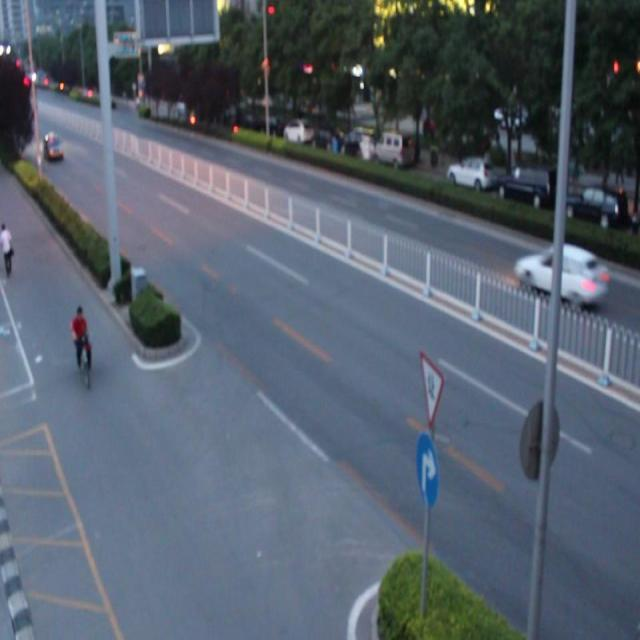car: (512, 242, 608, 307)
